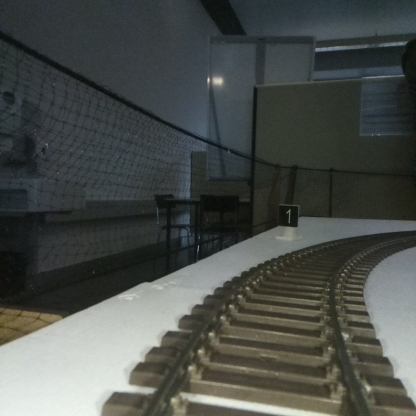black-stop-1: (279, 205, 298, 237)
